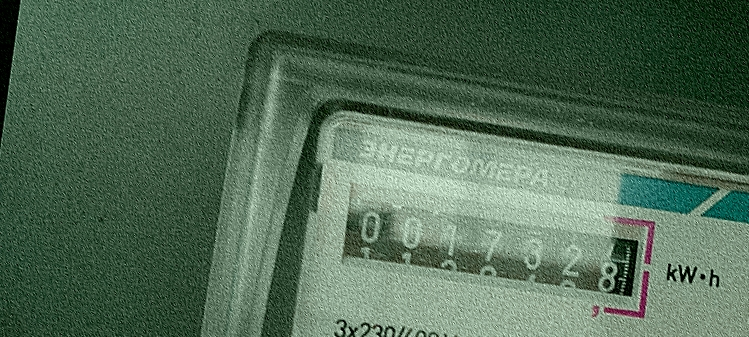0: (359, 205, 386, 245), (401, 213, 426, 249)
1: (443, 218, 463, 256)
2: (560, 240, 586, 278)
3: (521, 233, 548, 271)
7: (479, 223, 508, 264)
8: (596, 256, 620, 294)
screen: (330, 177, 663, 321)
